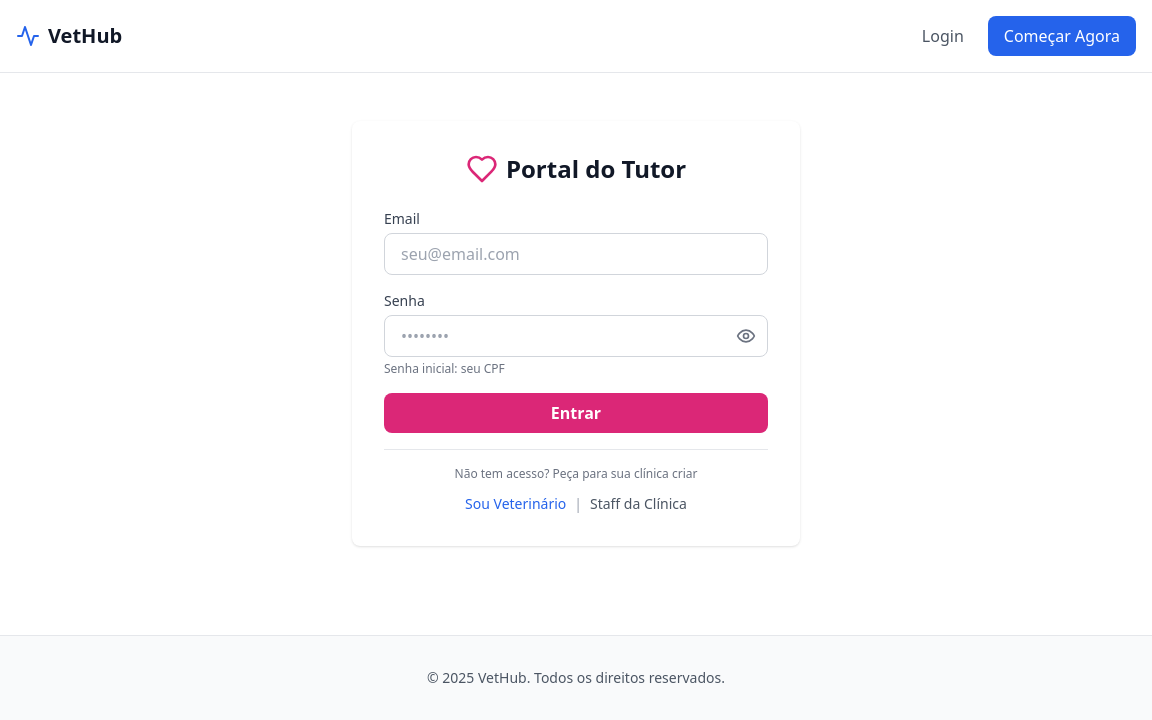
Test: TutorLogin Page › deve exibir mensagem de erro genérica em caso de falha
The width and height of the screenshot is (1152, 720).
Note: IMPORTANTE: Preencher os campos obrigatórios para permitir o submit
Type "erro@test.com" into the field with placeholder "seu@email.com" at (576, 254), box [384,233,768,275]
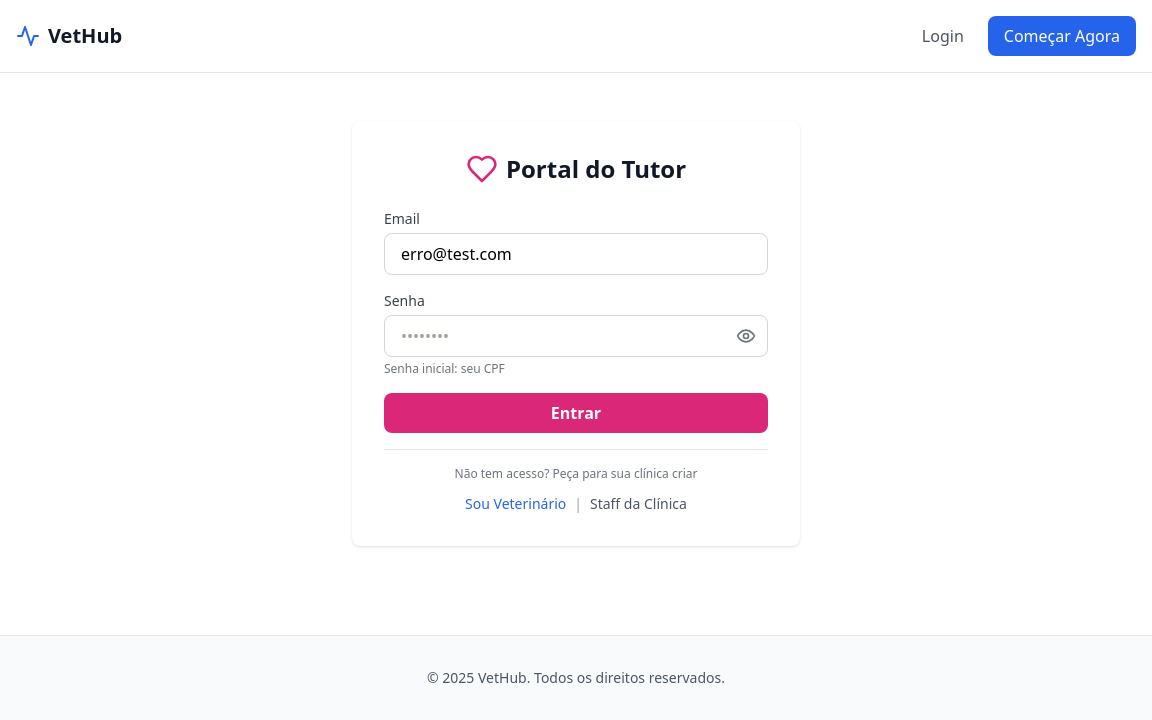
Type "123456" into the password field with placeholder "••••••••" at (576, 336), box [384,315,768,357]
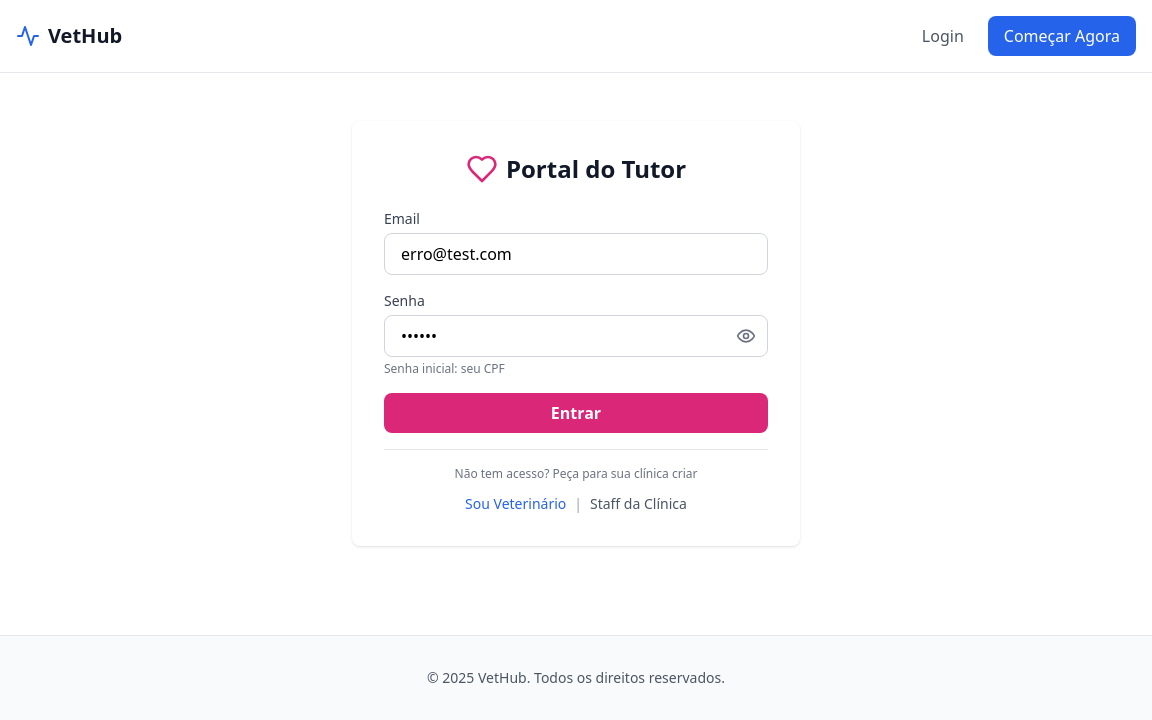
Click the button "Entrar" at (576, 413), box [384,393,768,433]
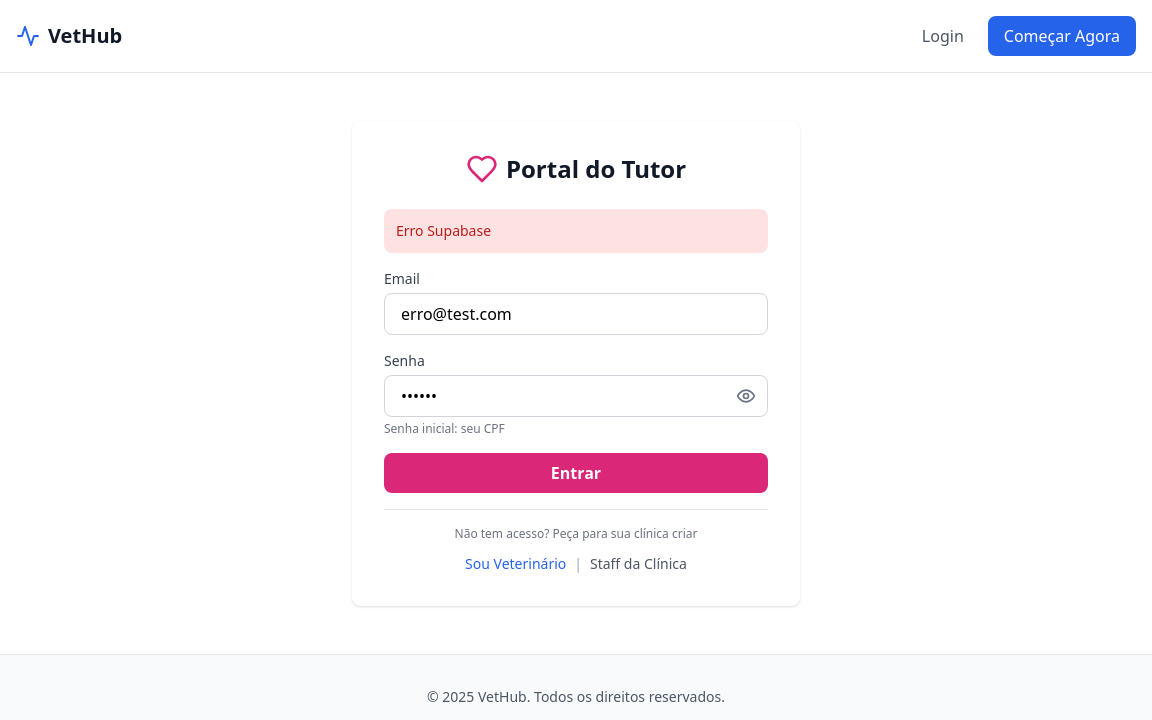
Check: the text "Erro Supabase" is shown, box [384,209,768,253]
